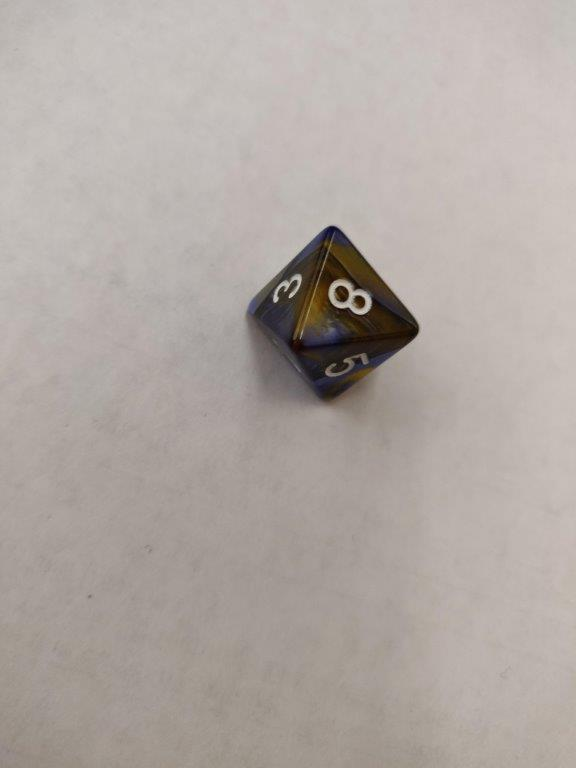d8-8: (246, 223, 420, 404)
